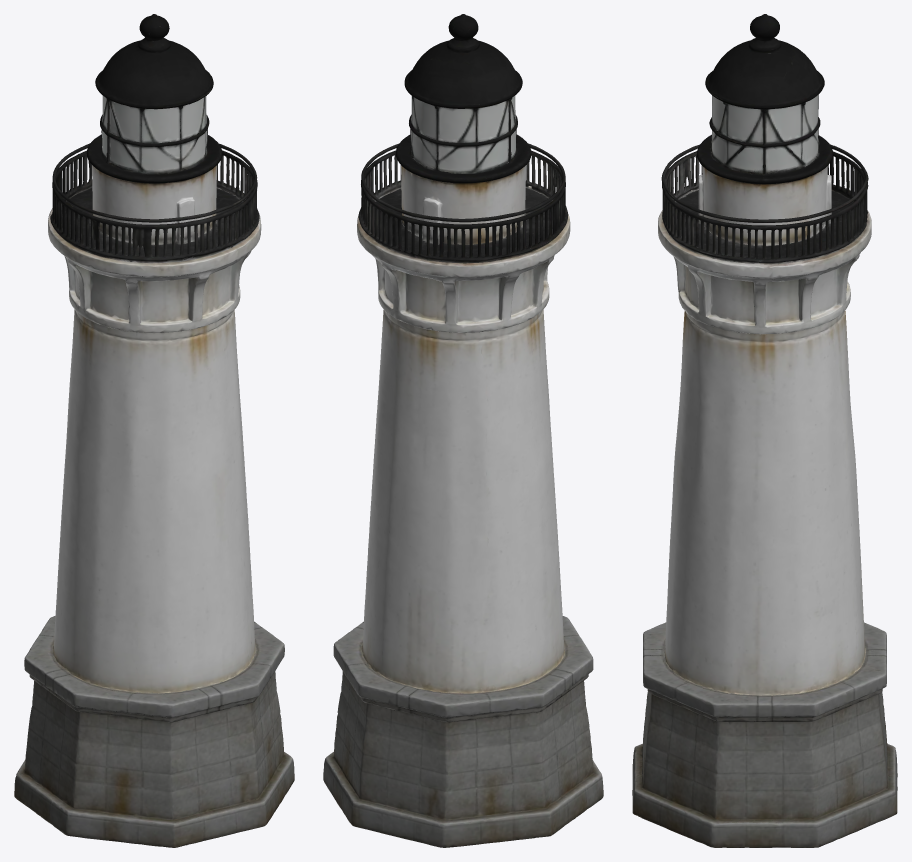
Rendered from lighthouse.0.glb.
The picture shows the model from 3 angles, left to right: view 1: azimuth 30°, elevation 25°; view 2: azimuth 150°, elevation 25°; view 3: azimuth 270°, elevation 25°; orthographic projection.
Parts seen in each view (by area): view 1: geometry_0; view 2: geometry_0; view 3: geometry_0.
Part boxes in pixels (left/top/right/bottom): geometry_0: left=14, top=14, right=294, bottom=847; geometry_0: left=323, top=14, right=603, bottom=847; geometry_0: left=632, top=14, right=897, bottom=847.
Size of the model in its own units: 0.3086 by 1 by 0.3089.
1 material, 1 textured.
